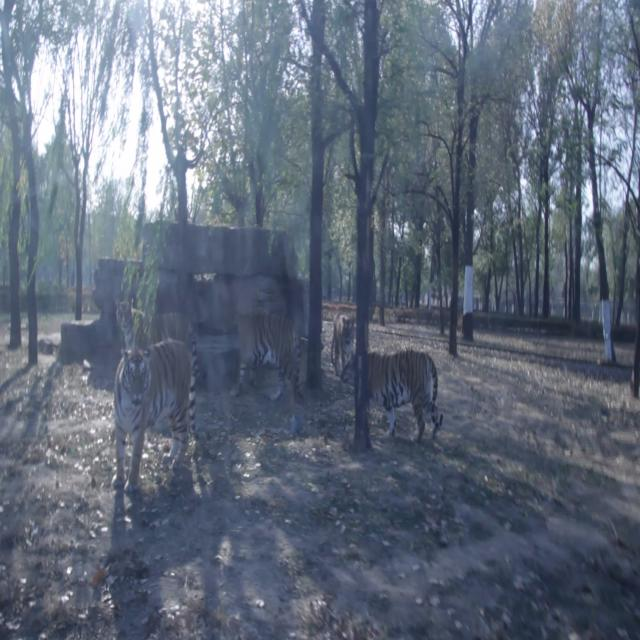Tiger: (102, 320, 206, 497), (352, 351, 449, 440), (231, 302, 306, 408), (112, 294, 207, 362), (325, 305, 361, 366)
